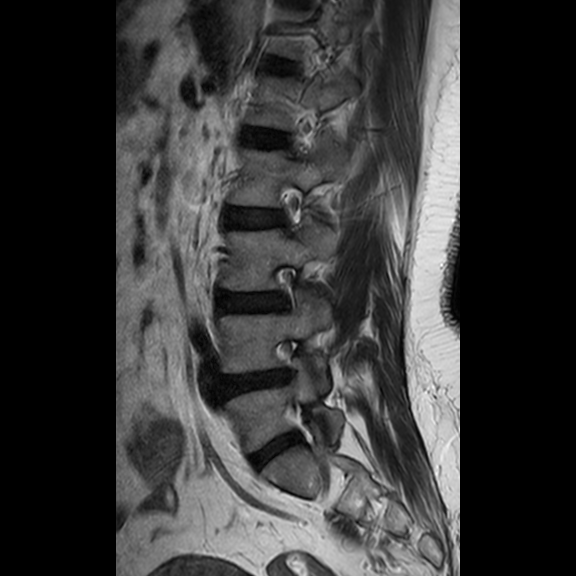LFS0: (260, 251, 307, 322), (263, 177, 313, 240), (261, 333, 315, 389)
